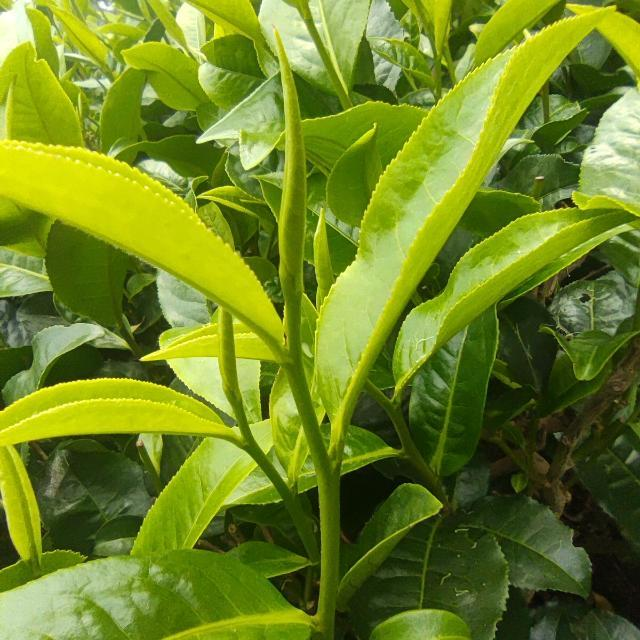Stem: (282, 354, 300, 374), (242, 434, 254, 449), (386, 402, 398, 413)
